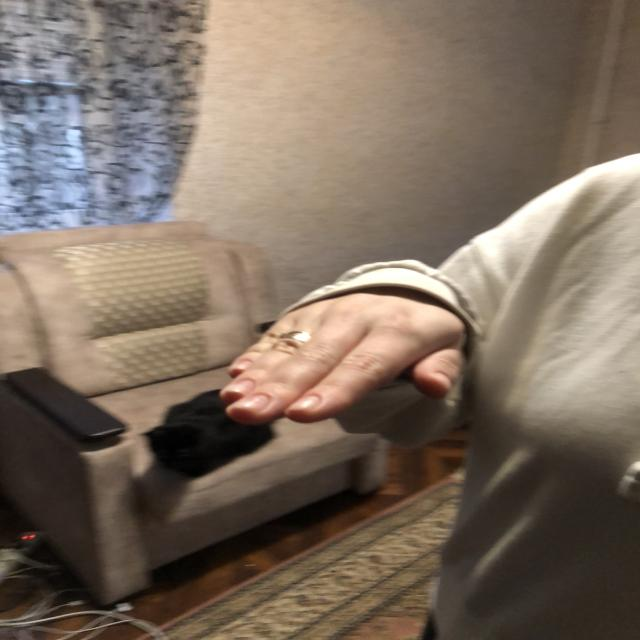paper: (221, 309, 468, 421)
